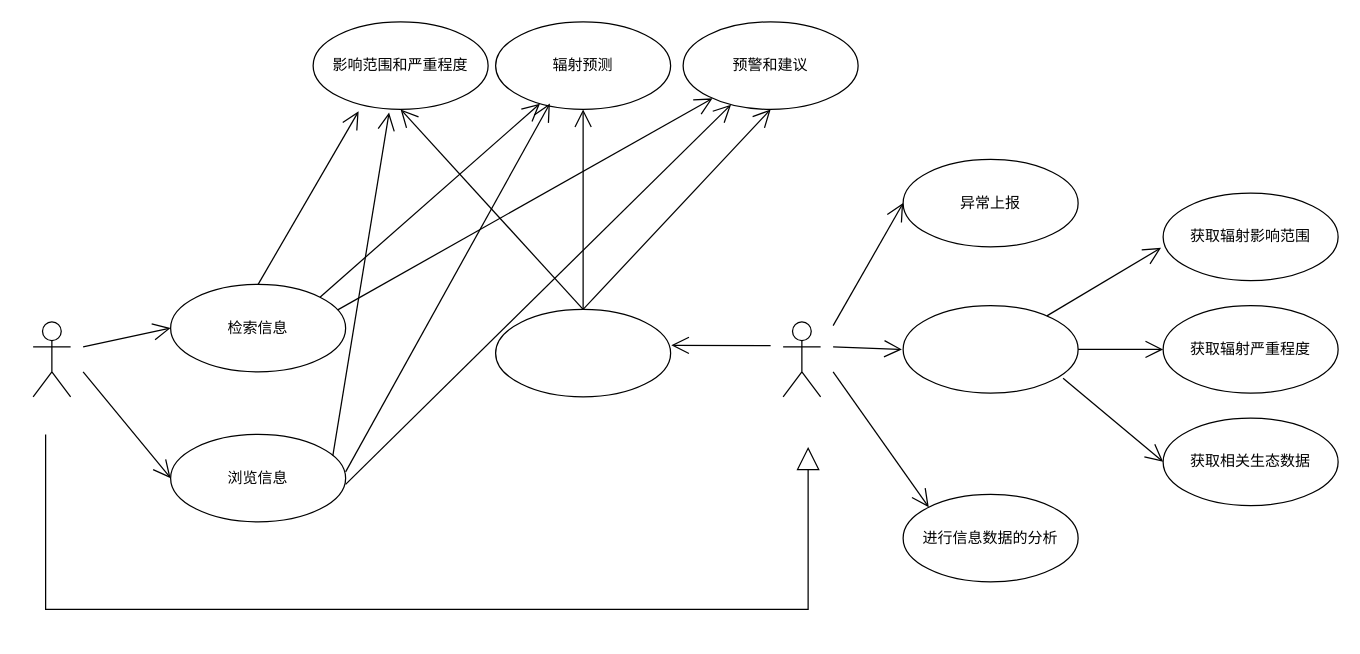
The diagram is 1360 pixels wide and 654 high, and some of its shapes have lost their labels. Here are the shapes that lost their labels. From the top down, the centre of each, then its label:
the point at 51,359: 普通用户
the point at 582,352: 发布信息
the point at 801,359: 海洋环境管理人员
the point at 990,348: 获取相关信息
